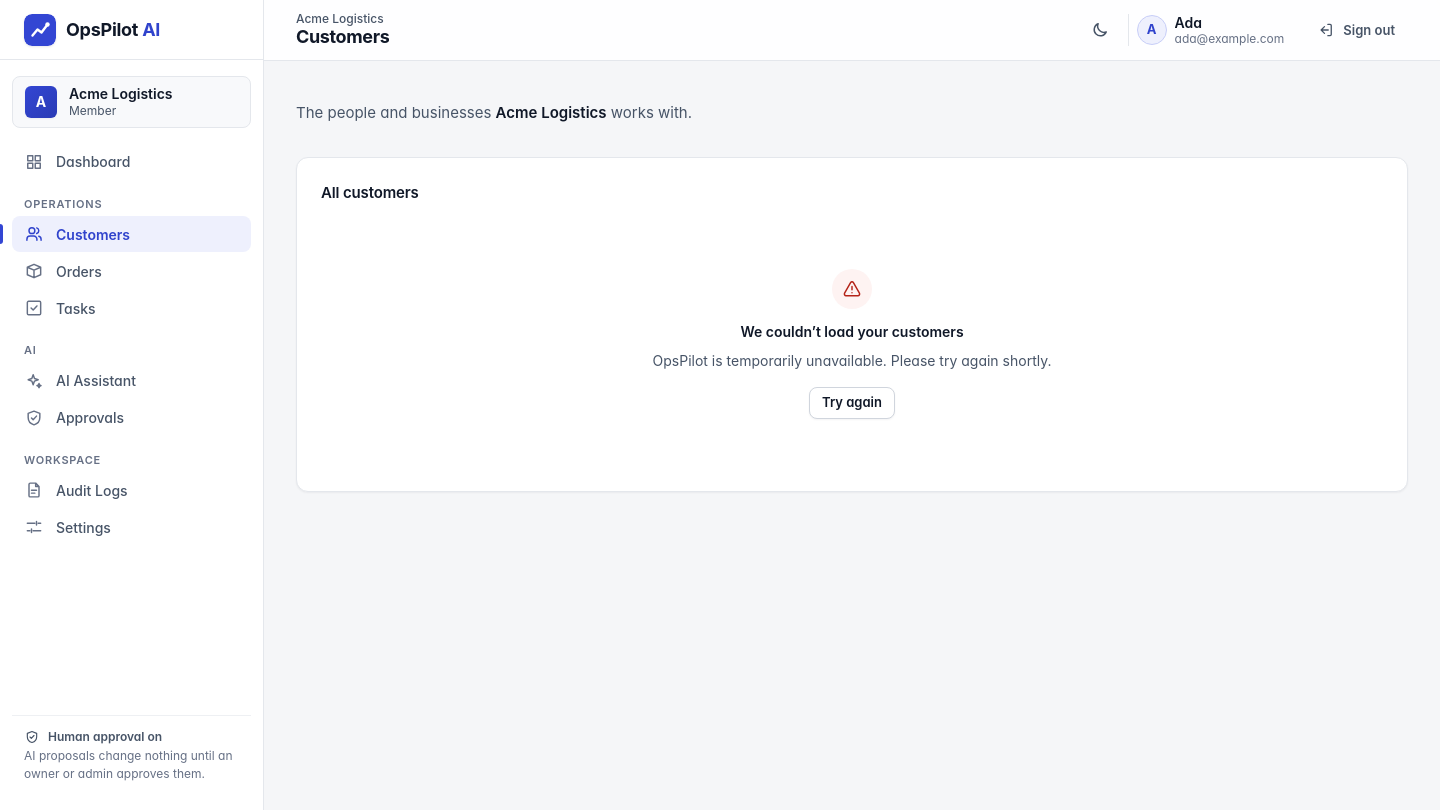
it: Customers list › explains a failed load and retries
Expected: the heading "Customers" is shown, [296,26,389,49]
Expected: the message shows "We couldn’t load your customers", [740,322,964,340]
Step 1. Click the button "Try again" → (852, 402), box [809,386,895,418]
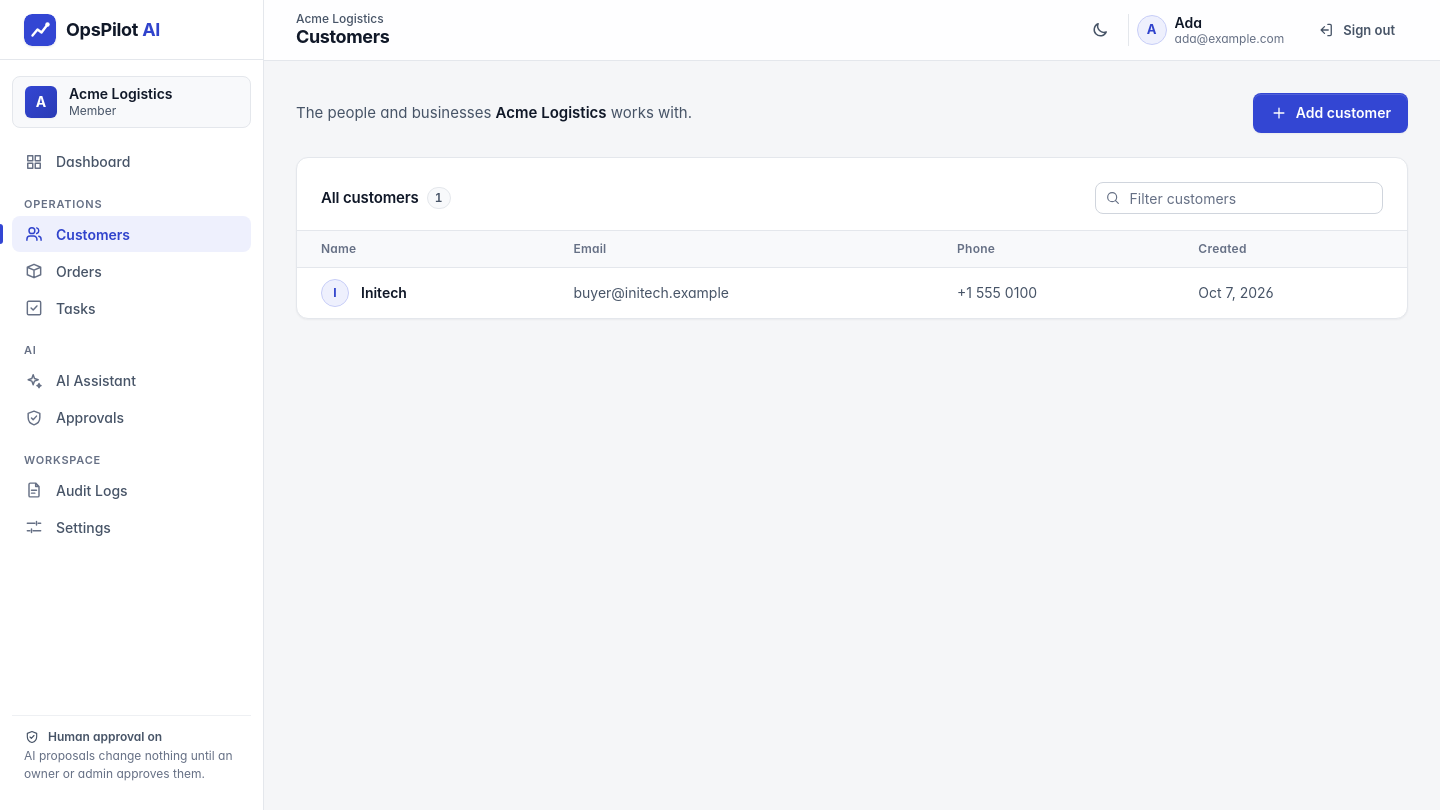
Expected: the text "Initech" is shown, [361,284,407,301]
